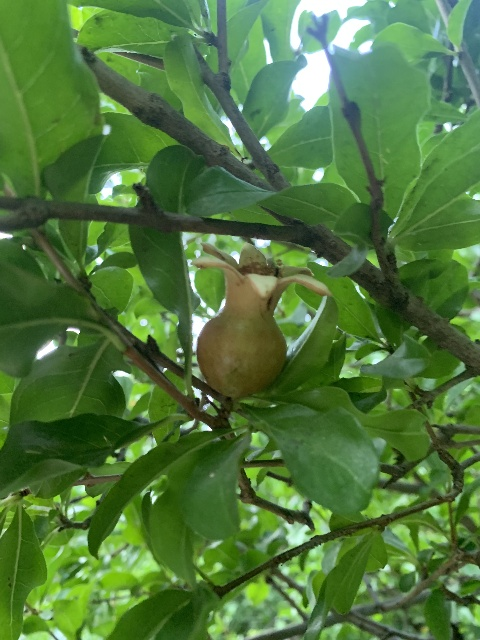early-fruit: (191, 239, 331, 399)
